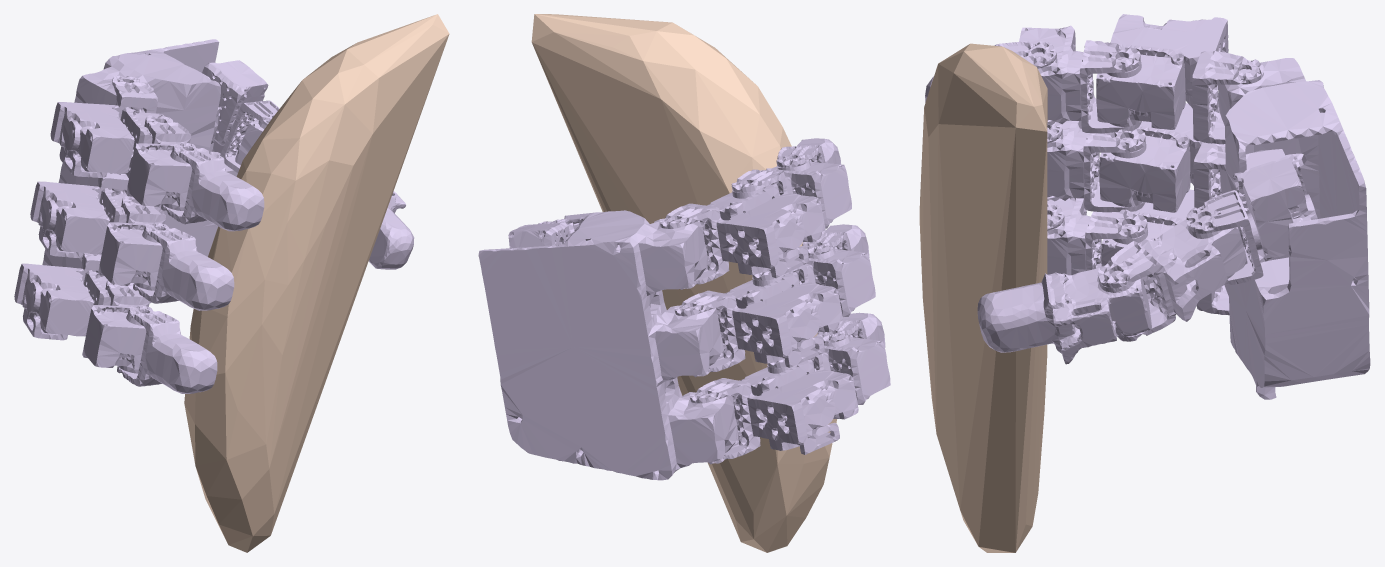
Rendered from 62618ab9ee6ca1-closed.glb.
3 renders of one model, left to right at view 1: azimuth 30°, elevation 25°; view 2: azimuth 150°, elevation 25°; view 3: azimuth 270°, elevation 25°, orthographic. The views are drawn at different scales.
Visible parts, largest first — view 1: world, LEAP_hand; view 2: LEAP_hand, world; view 3: LEAP_hand, world.
Boxes of the visible parts, x1,y1,x2,y2 form: world: [184, 14, 449, 552]; LEAP_hand: [14, 39, 414, 393]; LEAP_hand: [478, 138, 890, 480]; world: [531, 14, 836, 552]; LEAP_hand: [925, 14, 1370, 399]; world: [919, 43, 1047, 552].
Size of the model in its own units: 0.2096 by 0.2669 by 0.1916.
